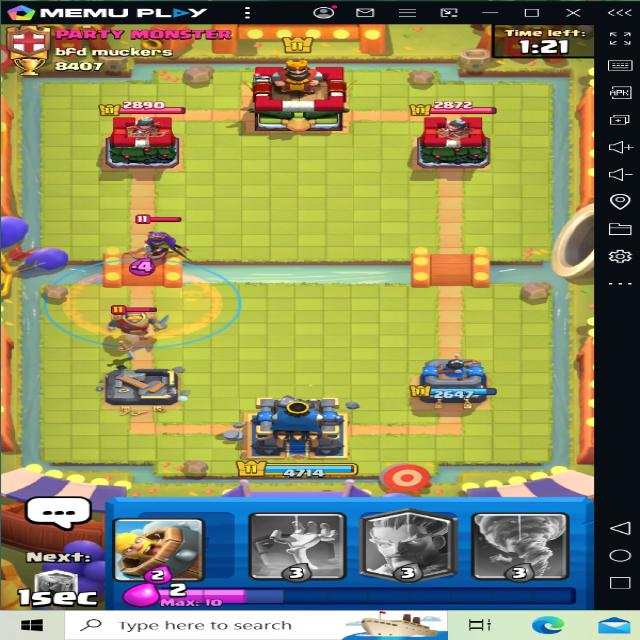Knight: (101, 304, 188, 353)
Queen: (134, 211, 205, 279)
